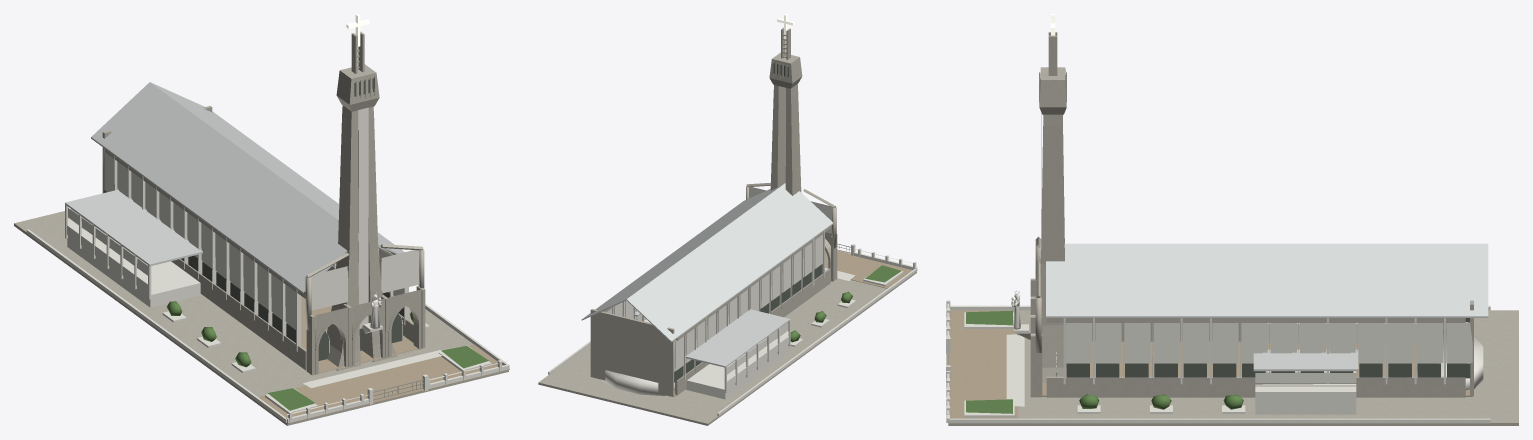
The model's file is long-xuyen-cathedral-lod.glb.
The picture shows the model from 3 angles, left to right: view 1: azimuth 30°, elevation 25°; view 2: azimuth 150°, elevation 25°; view 3: azimuth 270°, elevation 25°; orthographic projection. The views are drawn at different scales.
Visible parts, largest first — view 1: Cathedral_LOD_stone, Cathedral_LOD_roof, Cathedral_LOD_white, Cathedral_LOD_paving, Cathedral_LOD_dark, Cathedral_LOD_green; view 2: Cathedral_LOD_stone, Cathedral_LOD_roof, Cathedral_LOD_white, Cathedral_LOD_paving, Cathedral_LOD_dark, Cathedral_LOD_green; view 3: Cathedral_LOD_roof, Cathedral_LOD_stone, Cathedral_LOD_white, Cathedral_LOD_paving, Cathedral_LOD_dark, Cathedral_LOD_green.
Part boxes in pixels (x1,y1,x2,y2): Cathedral_LOD_stone: (14,31,508,425); Cathedral_LOD_roof: (65,82,404,293); Cathedral_LOD_white: (26,107,509,423); Cathedral_LOD_paving: (258,296,509,423); Cathedral_LOD_dark: (104,78,403,360); Cathedral_LOD_green: (167,301,488,410); Cathedral_LOD_stone: (538,27,916,425); Cathedral_LOD_roof: (581,182,833,367); Cathedral_LOD_white: (548,186,917,416); Cathedral_LOD_paving: (673,250,912,396); Cathedral_LOD_dark: (637,63,822,382); Cathedral_LOD_green: (790,265,901,342); Cathedral_LOD_roof: (1046,243,1488,371); Cathedral_LOD_stone: (948,32,1518,425); Cathedral_LOD_white: (946,113,1490,423); Cathedral_LOD_paving: (946,310,1472,422); Cathedral_LOD_dark: (1066,318,1470,378); Cathedral_LOD_green: (966,310,1243,413).
Size of the model in its own units: 37.35 by 55 by 79.33.
Materials: 8 (2 with a texture image).
